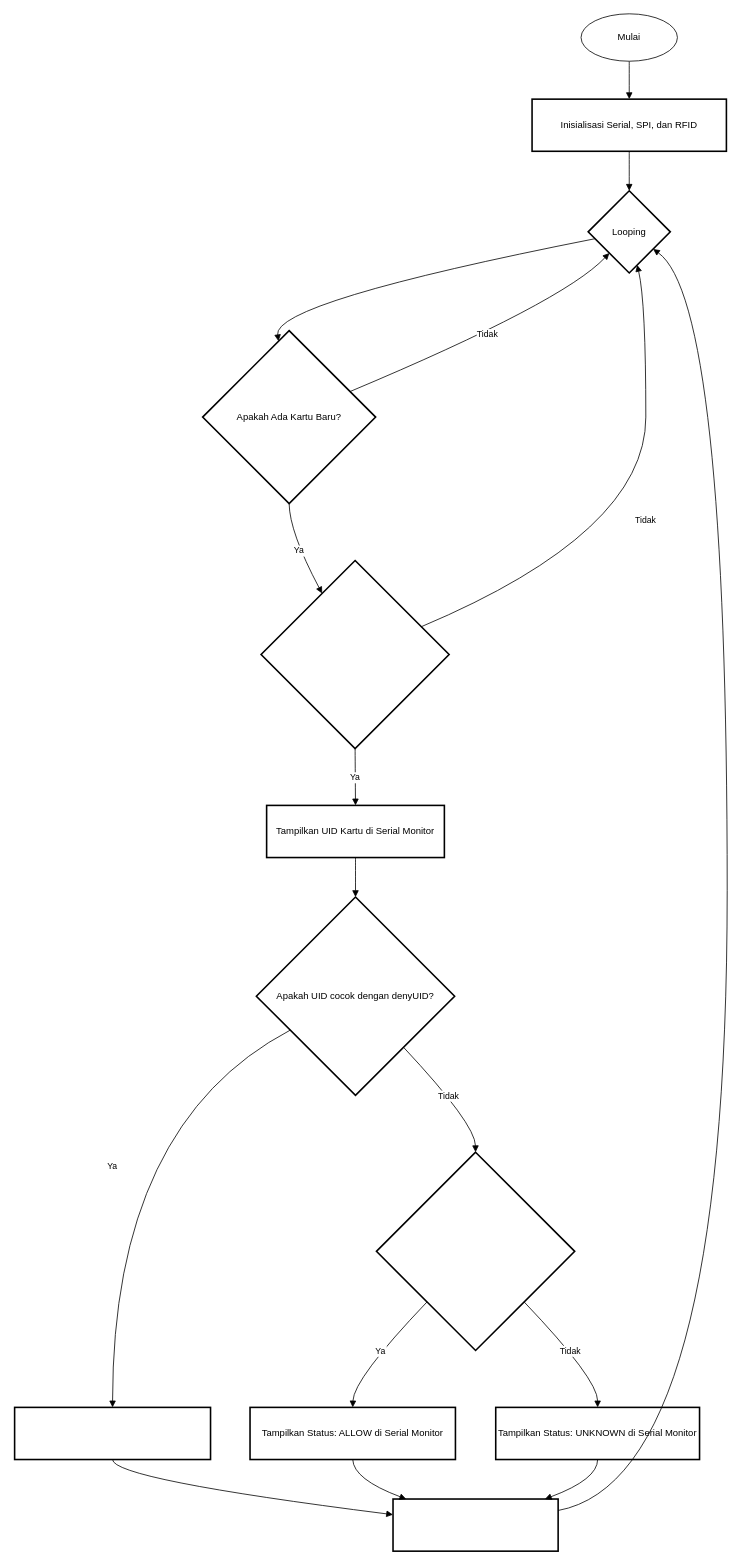
This 741x1566 diagram has some shape labels left out. Each missing label, with the box of its shape:
Apakah Kartu Bisa Dibaca?: (260, 559, 450, 749)
Apakah UID cocok dengan allowUID?: (375, 1151, 575, 1351)
Hentikan Komunikasi dengan Kartu: (392, 1498, 559, 1552)
Tampilkan Status: DENY di Serial Monitor: (13, 1406, 211, 1460)
